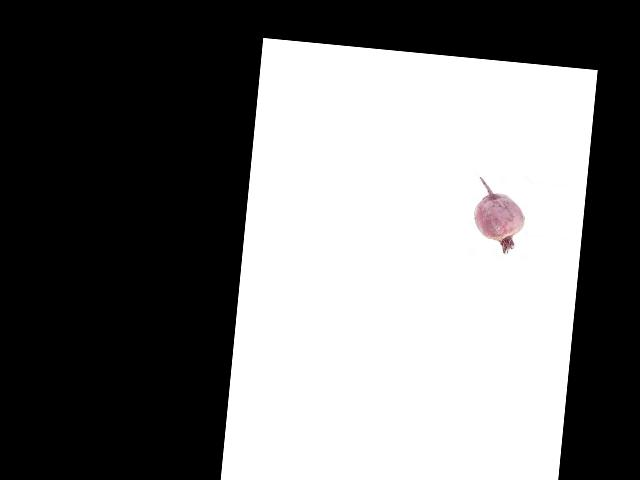beet: (470, 177, 527, 255)
